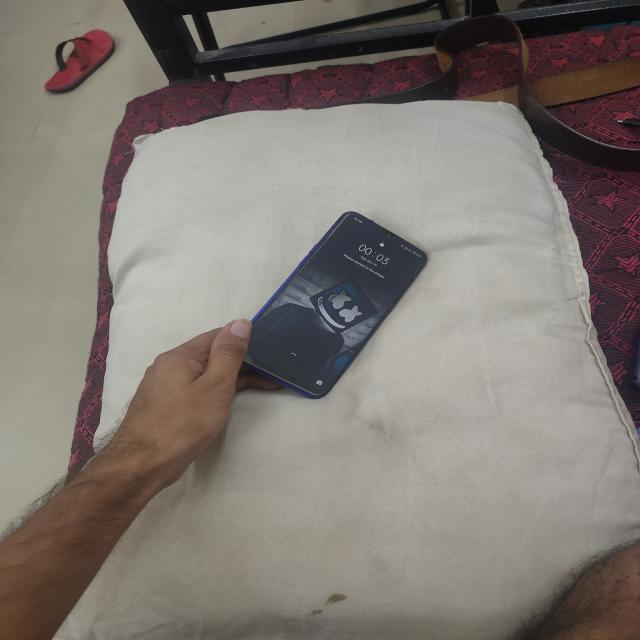Phone: (232, 212, 429, 402)
